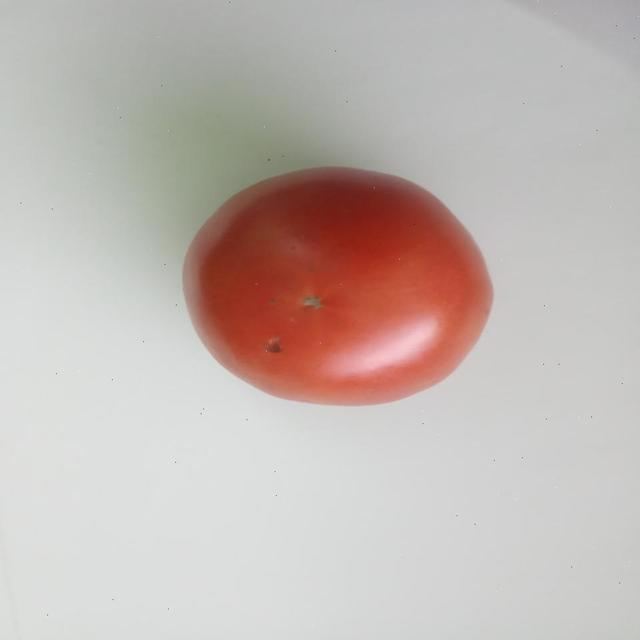Healthy Fruit: (109, 104, 336, 281)
